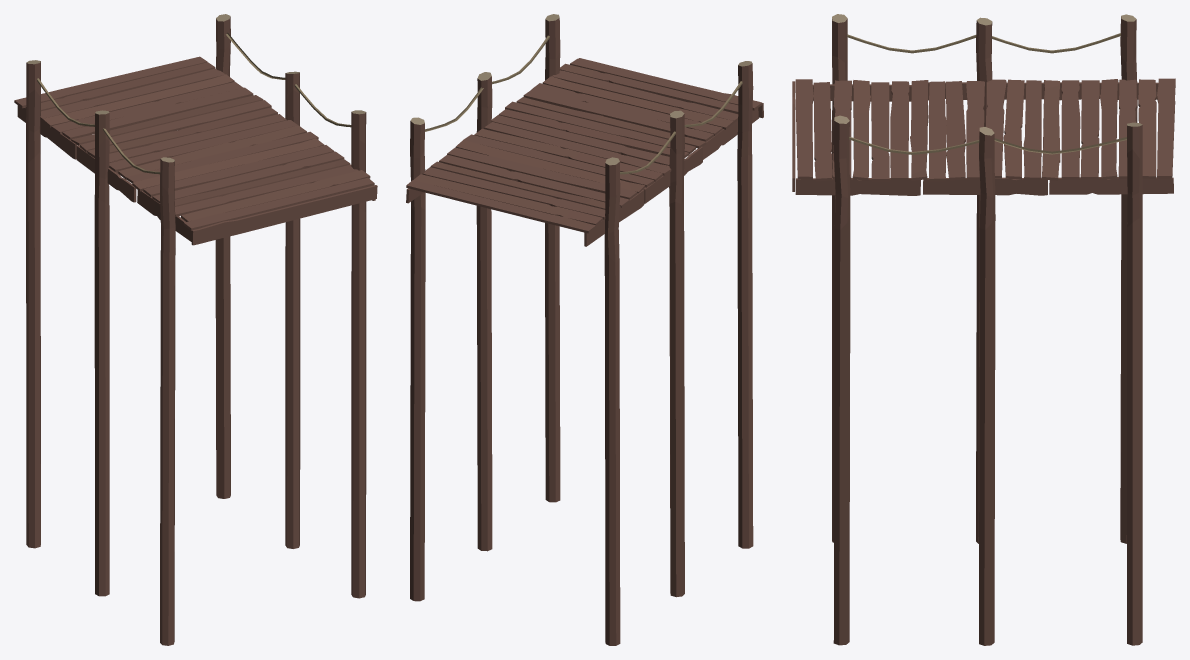
Rendered from dock-rope-tall.glb.
The picture shows the model from 3 angles, left to right: view 1: azimuth 30°, elevation 25°; view 2: azimuth 150°, elevation 25°; view 3: azimuth 270°, elevation 25°; orthographic projection. The views are drawn at different scales.
Parts seen in each view (by area): view 1: Dock_Wide; view 2: Dock_Wide; view 3: Dock_Wide.
Part boxes in pixels (left/top/right/bottom): Dock_Wide: left=14, top=14, right=377, bottom=645; Dock_Wide: left=406, top=14, right=763, bottom=645; Dock_Wide: left=792, top=14, right=1175, bottom=645.
Size of the model in its own units: 14.63 by 32.68 by 21.69.
